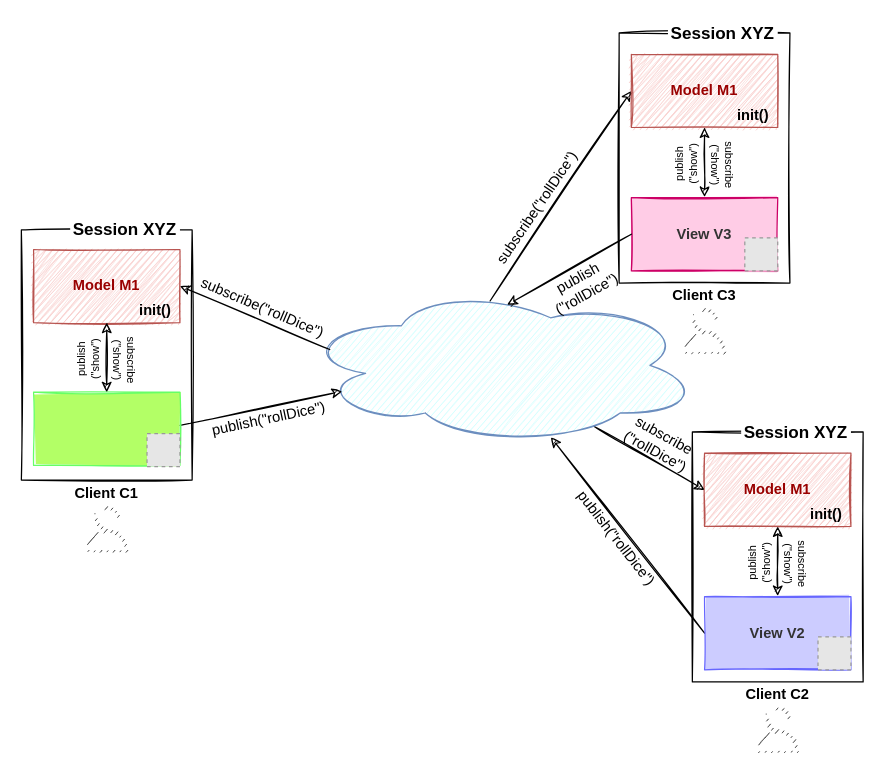
This 885x773 diagram has some shape labels left out. Grey dashed boxes stand in for pictures. Each missing label, with the box of its shape:
Reflector: (301, 285, 700, 445)
View V1: (32, 391, 180, 465)
